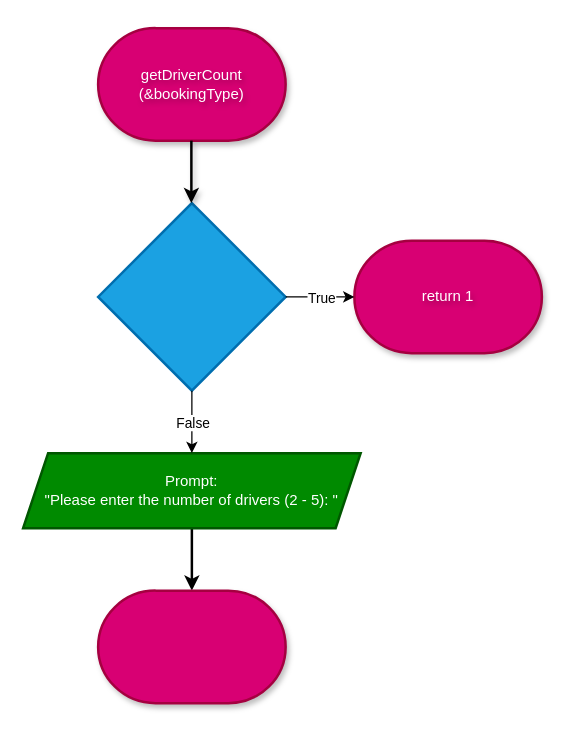
Image size: 571x734. Some labels were removed from this diagram. Here are the shapes that lost their labels. From the top down, the centre of each, then its label:
point (191, 296): bookingType == "Solo"
point (192, 648): return getValidIntegerInput ("number of drivers, 2, 5)
